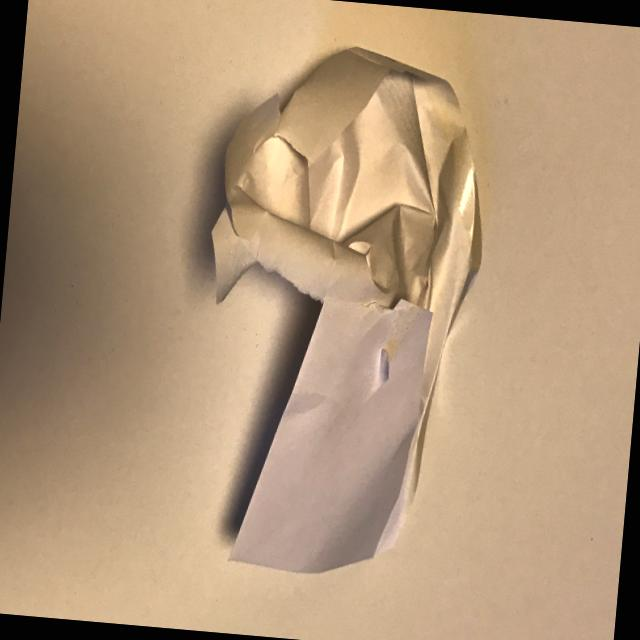Paper: (182, 27, 508, 591)
